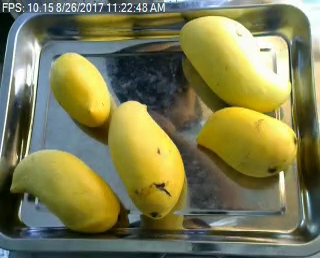Mango: (181, 16, 290, 110), (107, 101, 183, 219), (11, 150, 120, 232), (196, 106, 297, 178), (49, 51, 108, 124)
